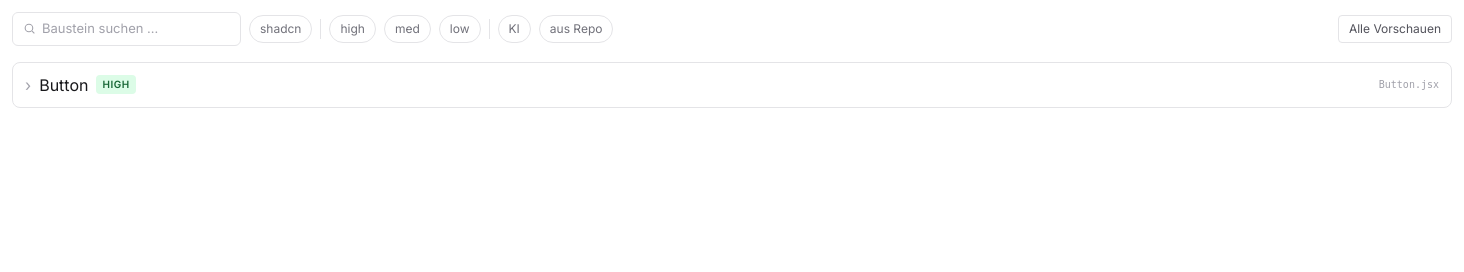
Test: LibraryObjectList — Preview-First (kind atom/molecule/organism teilen sich eine Zeilen-Liste) › kind=atom: initial zusammengeklappt — Kopf sichtbar, Vorschau/Varianten erst nach Aufklappen; Code separat
The width and height of the screenshot is (1464, 272).
Expected: the button "primary" is not shown
Click the text "Button" at (64, 84), box [39, 72, 88, 96]
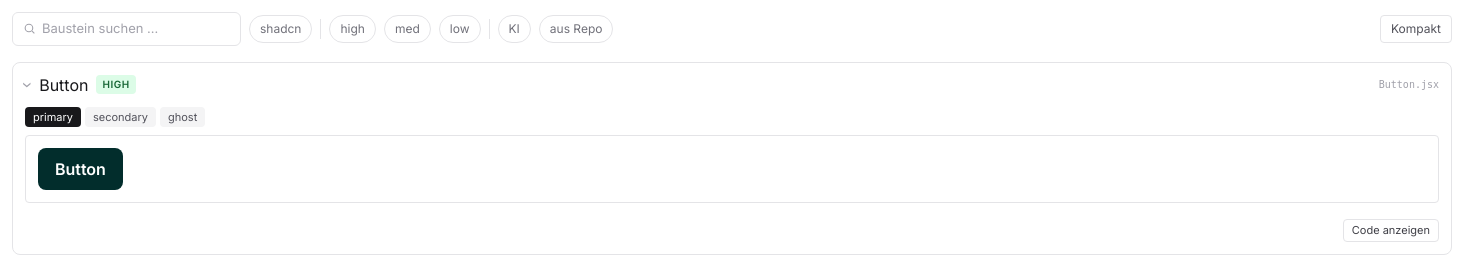
Expected: the button "primary" is shown, [25, 106, 81, 127]
Expected: the button "ghost" is shown, [160, 106, 205, 127]
